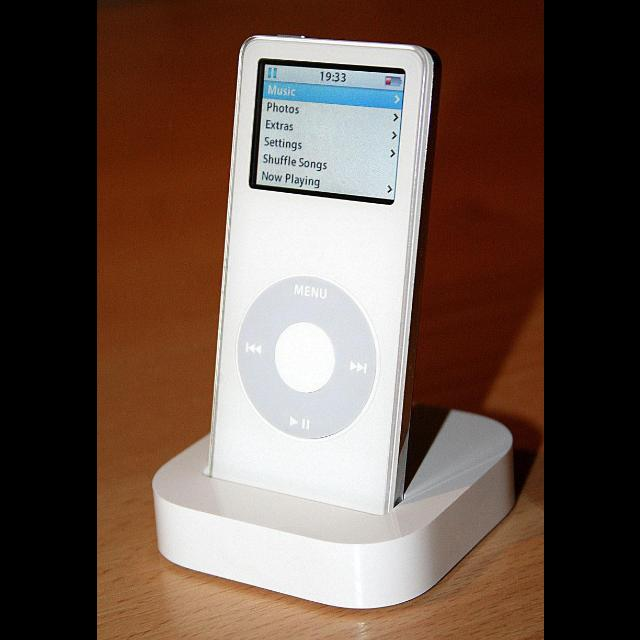Music-Player: (196, 18, 448, 504)
